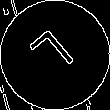L_SE: (27, 26, 83, 84)
